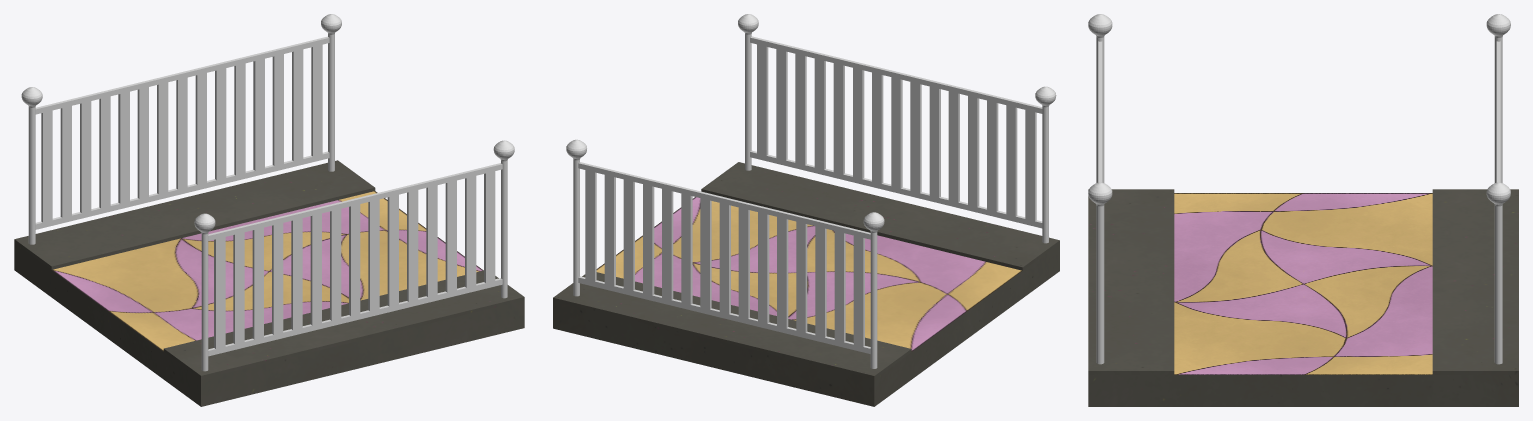
File: tile_corridor.fbx
3 views of the same model, side by side, from view 1: azimuth 30°, elevation 25°; view 2: azimuth 150°, elevation 25°; view 3: azimuth 270°, elevation 25° (orthographic). The views are drawn at different scales.
Parts seen in each view (by area): view 1: Cube.004; view 2: Cube.004; view 3: Cube.004.
Part boxes in pixels (x1,y1,x2,y2): Cube.004: (14,14,524,406); Cube.004: (553,14,1059,406); Cube.004: (1088,14,1518,406).
Size of the model in its own units: 100 by 55.24 by 100.
